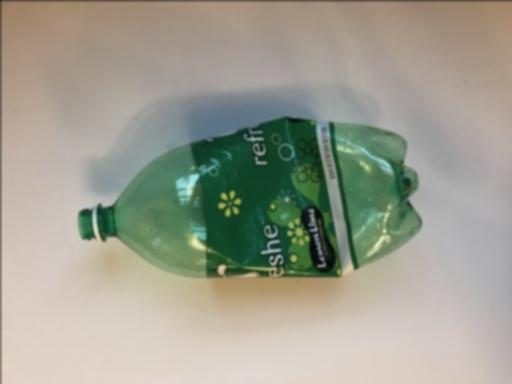PET: (76, 114, 421, 278)
plastic: (76, 114, 421, 278)
soft-drink: (76, 114, 421, 278)
